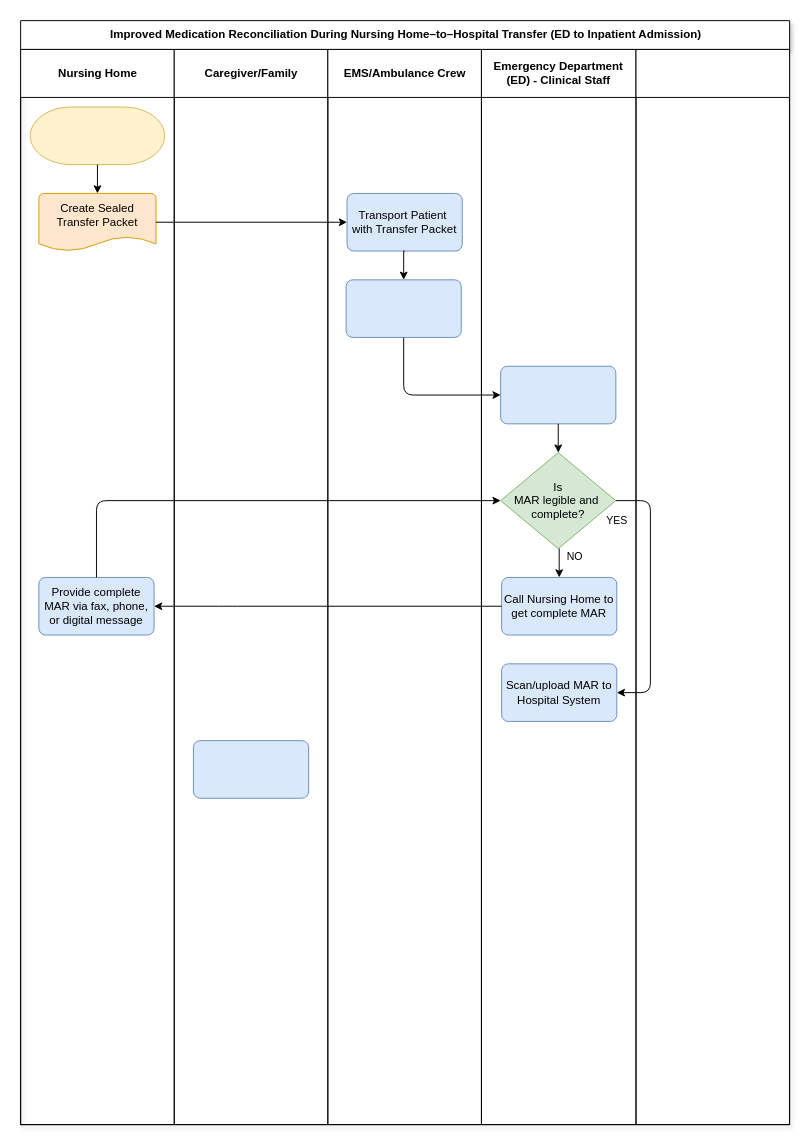
This 812x1148 diagram has some shape labels left out. Here are the shapes that lost their labels. From the top down, the centre of each, then its label:
the point at 97,135: Prepare Medication Administration Record (MAR)
the point at 403,308: Hand-off Patient to Emergency Department
the point at 558,394: Receive Transfer Packet and Document Receipt
the point at 712,586: Inpatient Unit (Nursing)
the point at 250,769: Receive call; Arrive at Emergency Department
